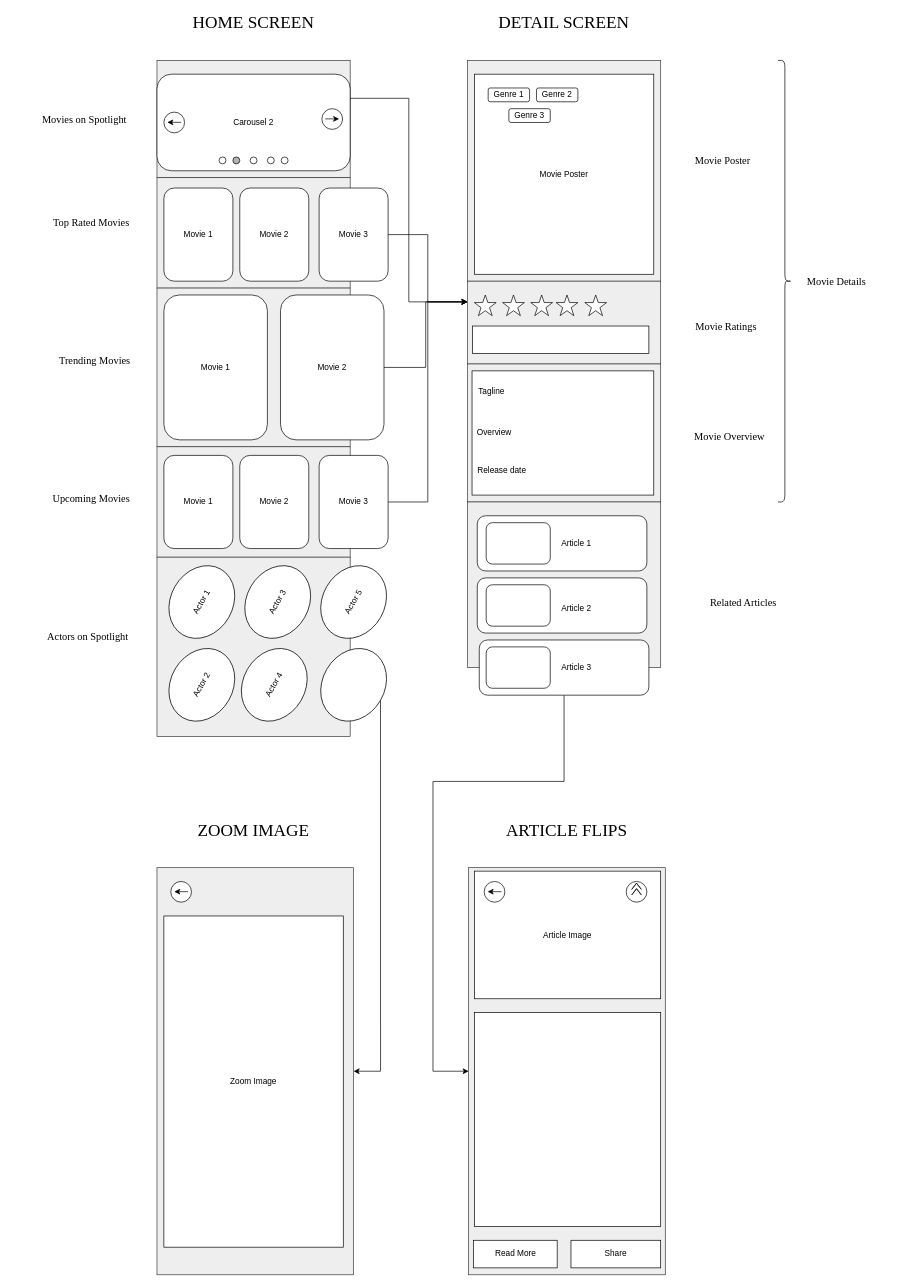
The diagram is 914 pixels wide and 1287 high, and some of its shapes have lost their labels. The shapes that lost their labels are listed below. From the top down, each one's centre as x and y in pixels, then its label:
(x=560, y=339): Ratings & Votes
(x=353, y=684): Actor 6
(x=567, y=1119): Description
